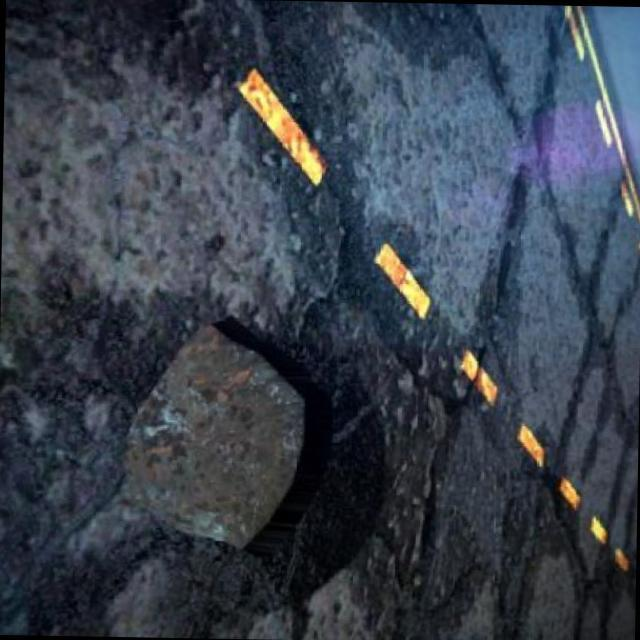pothole: (0, 289, 419, 619)
